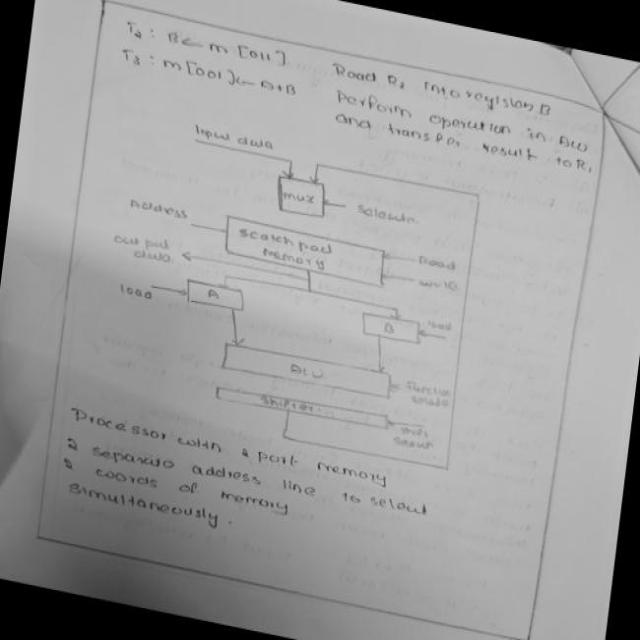Figure Detection - v3 Dataset Version2: (84, 91, 518, 488)
